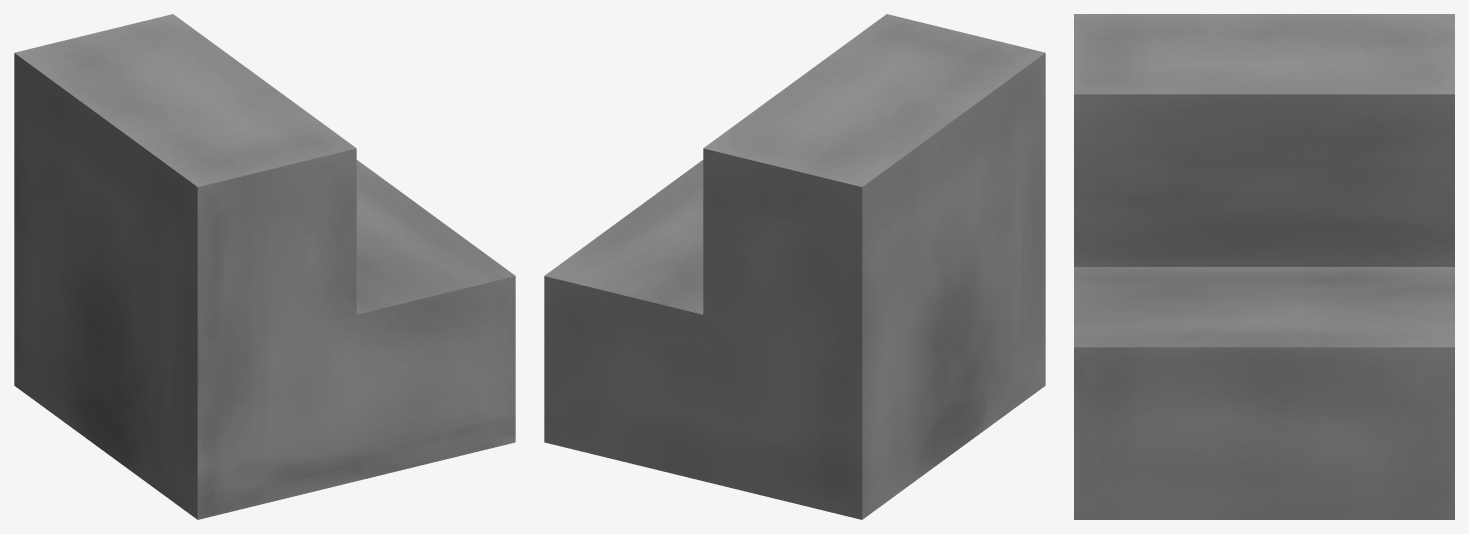
The model's file is stair.dae.
3 renders of one model, left to right at view 1: azimuth 30°, elevation 25°; view 2: azimuth 150°, elevation 25°; view 3: azimuth 270°, elevation 25°, orthographic. The views are drawn at different scales.
Visible parts, largest first — view 1: Cube; view 2: Cube; view 3: Cube.
Part boxes in pixels (x1,y1,x2,y2): Cube: (14, 14, 515, 519); Cube: (544, 14, 1045, 519); Cube: (1074, 14, 1454, 519).
Size of the model in its own units: 2 by 2 by 2.
1 material, 1 textured.
